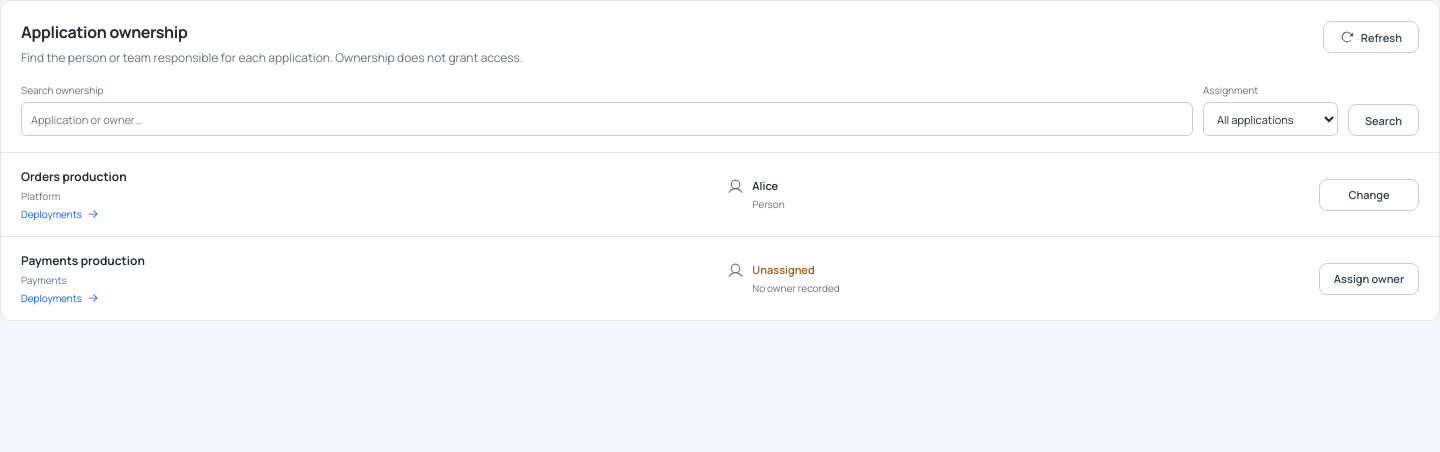
does not carry eligible owner candidates across application/project switches
Click the button with aria-label "Change owner for Orders production".
click(1369, 194)  # box left=1319, top=178, right=1419, bottom=210
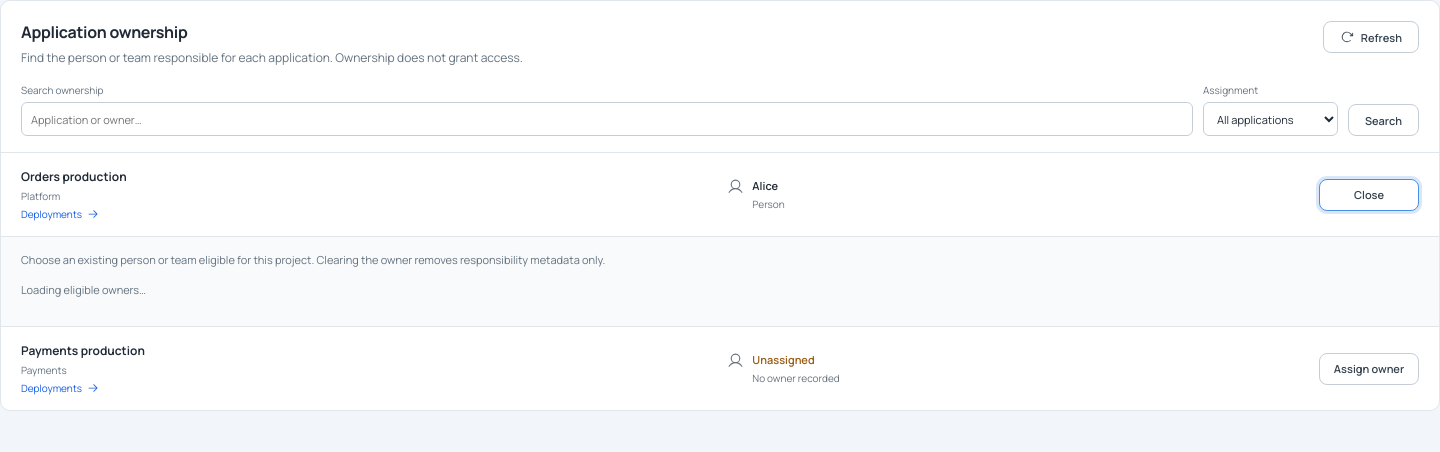
Check: the text "Loading eligible owners…" is shown, box left=21, top=282, right=146, bottom=296
Click the button with aria-label "Assign owner for Payments production".
click(1369, 368)  # box left=1319, top=352, right=1419, bottom=384
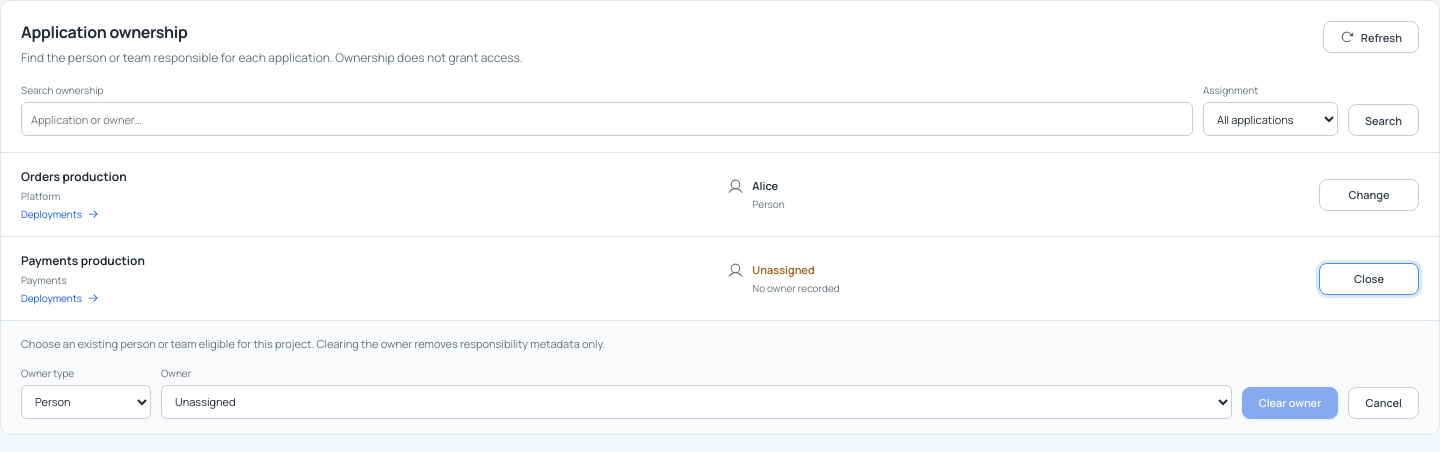
Check: the form named "Owner for Payments production" is shown, box left=1, top=320, right=1439, bottom=434
